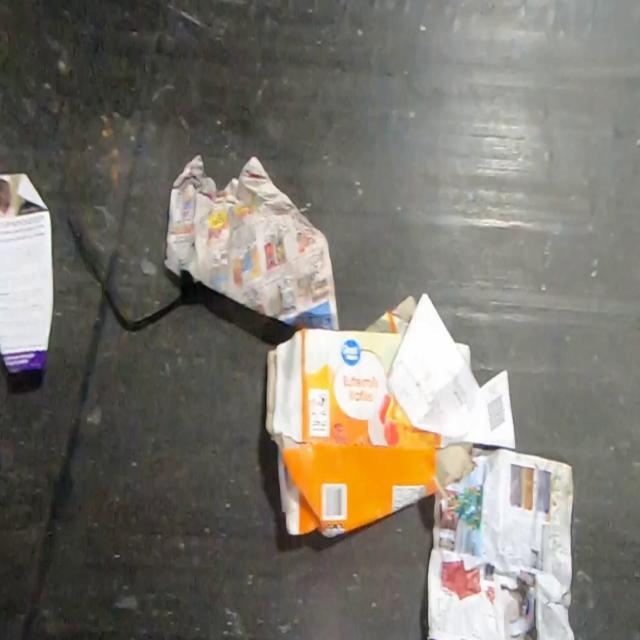cardboard: (264, 326, 517, 538), (454, 341, 472, 372)
